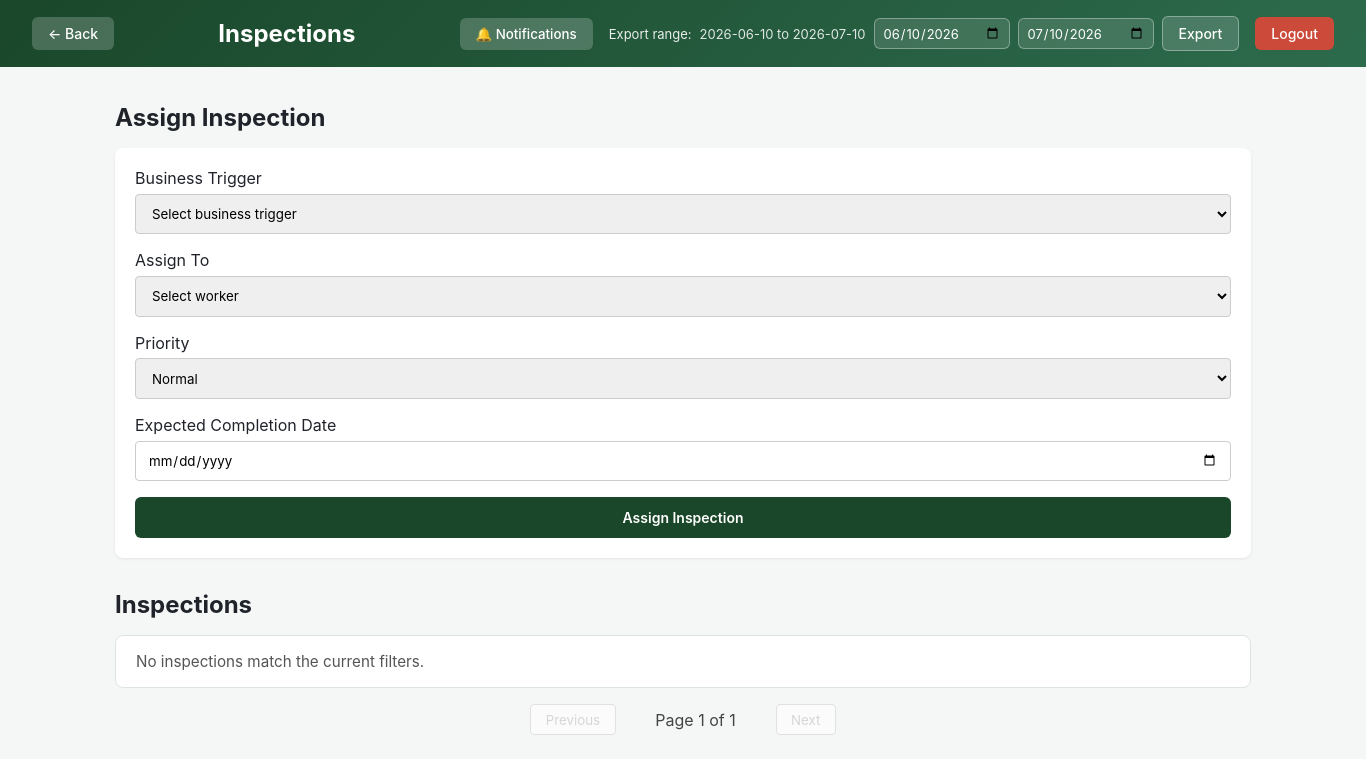
Test: InspectionsPage template assignment › loads only published templates for the selected asset category
Select "#1 — Street Light A (Customer Request)" in the dropdown labelled "Business Trigger": {"x": 683, "y": 214} [135,194,1231,234]
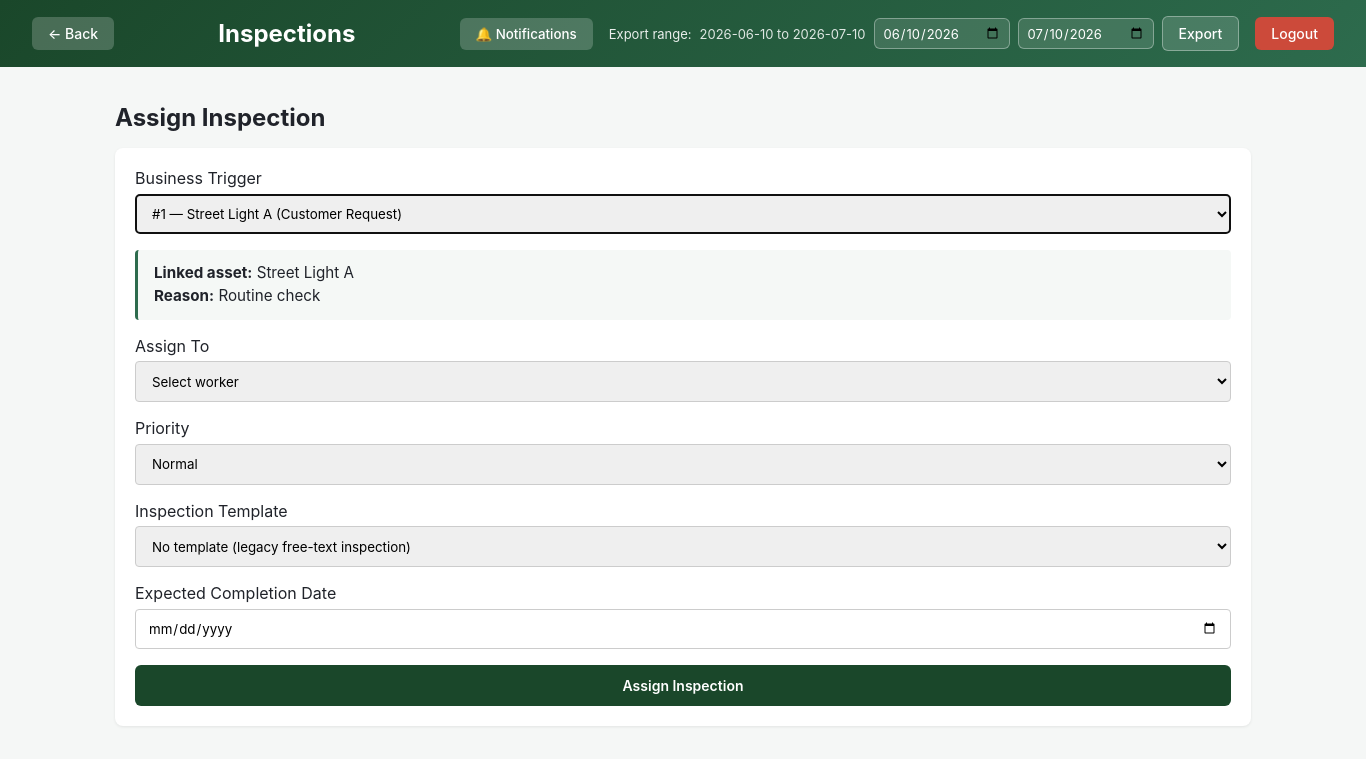
expect the dropdown labelled "Inspection Template" is shown: met, box [135,526,1231,567]
